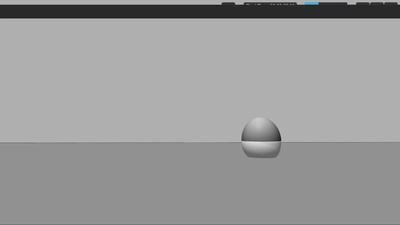mira_robot: (241, 117, 282, 158)
